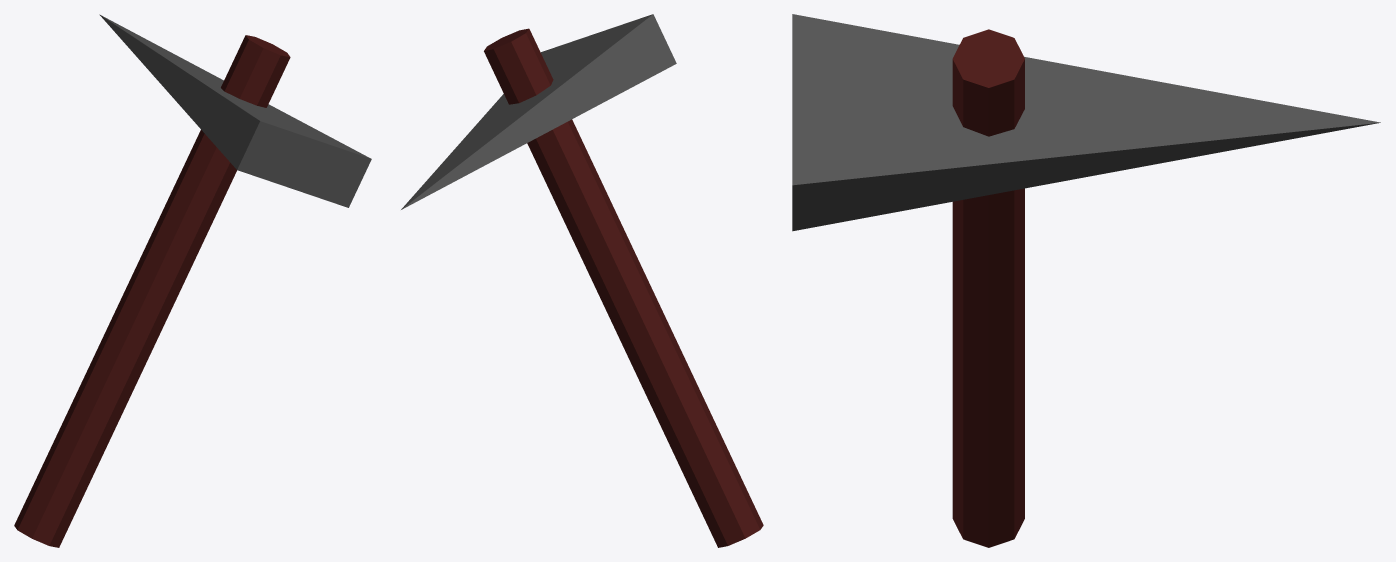
The model's file is Pickaxe.fbx.
3 renders of one model, left to right at view 1: azimuth 30°, elevation 25°; view 2: azimuth 150°, elevation 25°; view 3: azimuth 270°, elevation 25°, orthographic. The views are drawn at different scales.
Parts seen in each view (by area): view 1: Cylinder.001; view 2: Cylinder.001; view 3: Cylinder.001.
Part boxes in pixels (bbox=[...]): Cylinder.001: bbox=[14, 14, 371, 547]; Cylinder.001: bbox=[401, 14, 763, 547]; Cylinder.001: bbox=[792, 14, 1380, 547].
Size of the model in its own units: 181 by 275 by 225.
